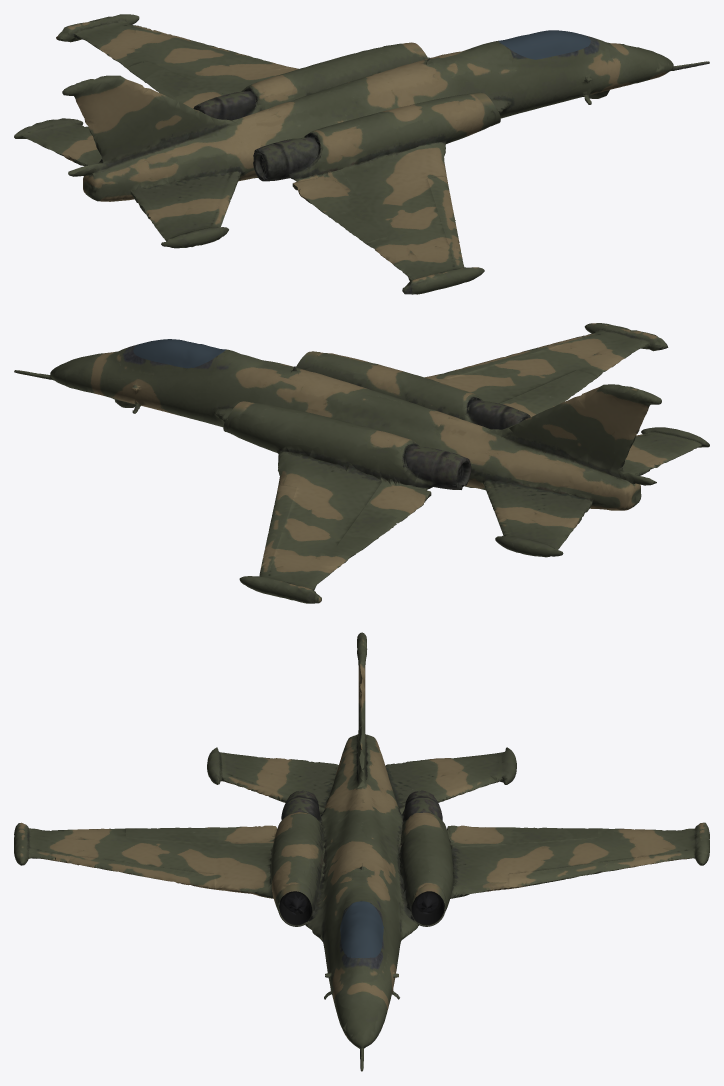
Rendered from fh_battle_attacker_1.glb.
The picture shows the model from 3 angles, top to bottom: view 1: azimuth 30°, elevation 25°; view 2: azimuth 150°, elevation 25°; view 3: azimuth 270°, elevation 25°; orthographic projection.
Visible parts, largest first — view 1: fh_battle_attacker_1; view 2: fh_battle_attacker_1; view 3: fh_battle_attacker_1.
Boxes of the visible parts, box(x1,y1,x2,y2) form: fh_battle_attacker_1: box(14, 14, 709, 294); fh_battle_attacker_1: box(14, 323, 709, 603); fh_battle_attacker_1: box(14, 632, 709, 1071).
Size of the model in its own units: 0.9988 by 0.211 by 0.944.
2 materials, 1 textured.
